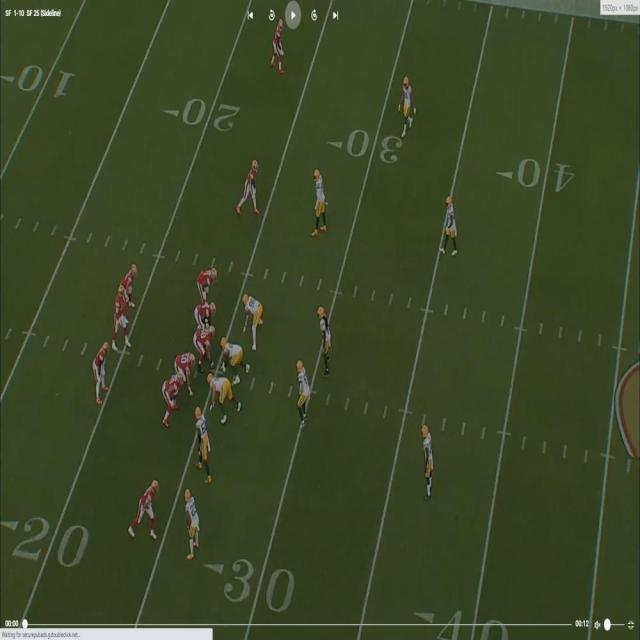center: (193, 323, 216, 365)
db: (183, 489, 199, 560), (446, 198, 460, 256), (426, 427, 435, 493), (402, 76, 412, 133)
lb: (194, 407, 208, 475), (320, 305, 333, 375), (298, 357, 311, 424), (315, 169, 328, 234)
qb: (113, 282, 131, 351)
skill: (133, 478, 158, 532), (242, 164, 260, 213), (96, 343, 110, 402), (120, 262, 136, 301), (275, 20, 286, 70), (199, 267, 215, 297)
